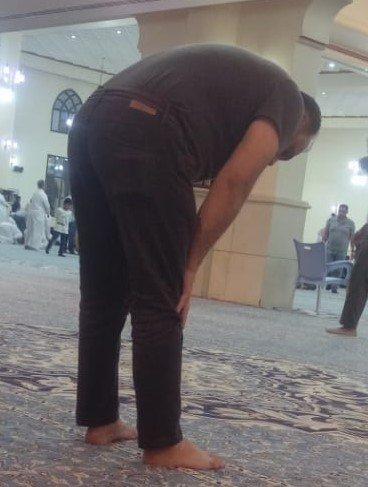ruku: (28, 46, 348, 473)
